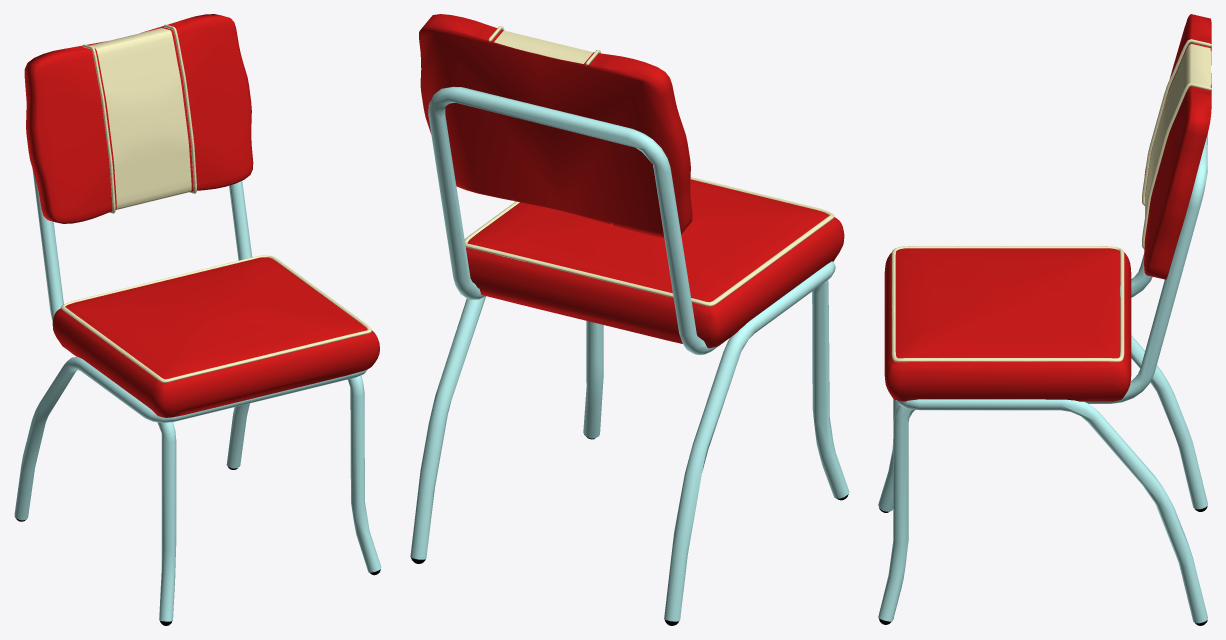
The model's file is diner_chair.glb.
The picture shows the model from 3 angles, left to right: view 1: azimuth 30°, elevation 25°; view 2: azimuth 150°, elevation 25°; view 3: azimuth 270°, elevation 25°; orthographic projection. The views are drawn at different scales.
Parts seen in each view (by area): view 1: Cube2_extract4_default.000_seatcover_0, Cube2_extract4_default.000_piping_0, Cube2_extract4_default.000_chrome_0; view 2: Cube2_extract4_default.000_seatcover_0, Cube2_extract4_default.000_chrome_0, Cube2_extract4_default.000_piping_0; view 3: Cube2_extract4_default.000_seatcover_0, Cube2_extract4_default.000_chrome_0, Cube2_extract4_default.000_piping_0.
Part boxes in pixels (<box>): Cube2_extract4_default.000_seatcover_0: <box>24,14,379,417</box>; Cube2_extract4_default.000_piping_0: <box>61,24,371,382</box>; Cube2_extract4_default.000_chrome_0: <box>14,168,381,621</box>; Cube2_extract4_default.000_seatcover_0: <box>419,14,844,348</box>; Cube2_extract4_default.000_chrome_0: <box>410,86,849,621</box>; Cube2_extract4_default.000_piping_0: <box>464,26,834,306</box>; Cube2_extract4_default.000_seatcover_0: <box>884,14,1211,401</box>; Cube2_extract4_default.000_chrome_0: <box>878,133,1207,623</box>; Cube2_extract4_default.000_piping_0: <box>891,39,1211,362</box>.
Bounding box in the file's own units: 480 × 936 × 557.
